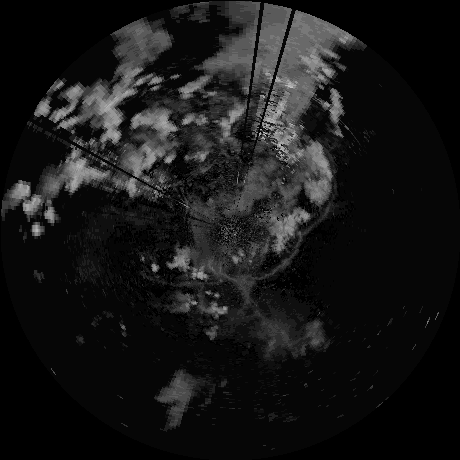frontgust: (220, 251, 296, 280), (296, 200, 335, 248), (138, 272, 223, 286)
